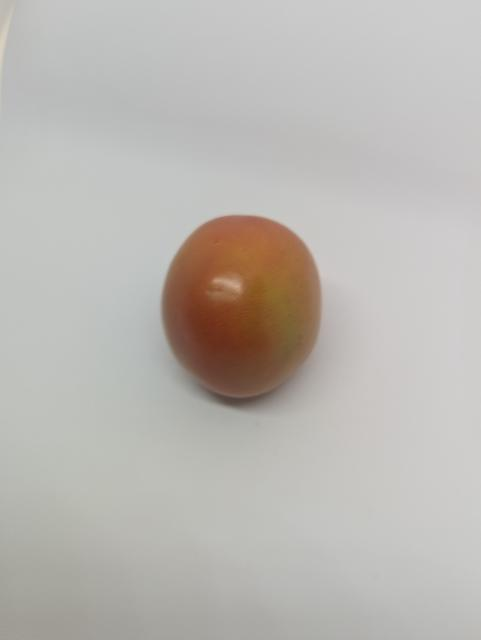turning: (155, 204, 334, 405)
